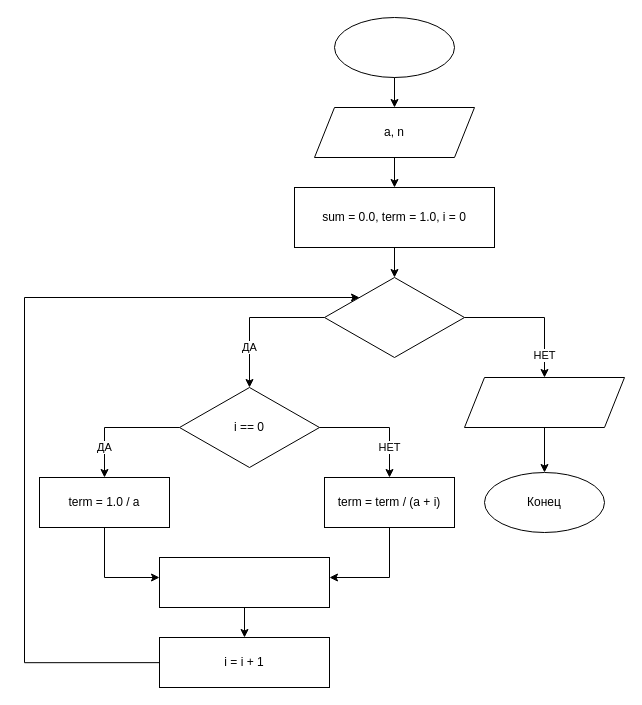
Some shapes in this 642 by 705 pixel diagram are drawn without their labels. Here are the shapes that lost their labels. From the top down, the centre of each, then its label:
At pixel 394 47: "Начало".
At pixel 394 317: "i <= n".
At pixel 544 402: "sum".
At pixel 244 582: "sum = sum + term".
